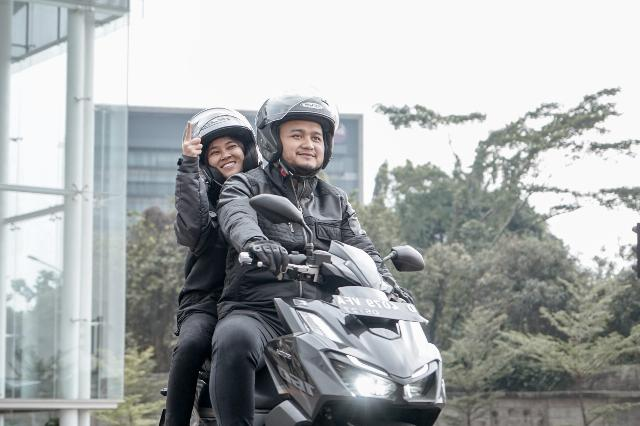helm: (256, 89, 344, 178), (182, 105, 260, 185)
motor: (185, 196, 448, 426)
